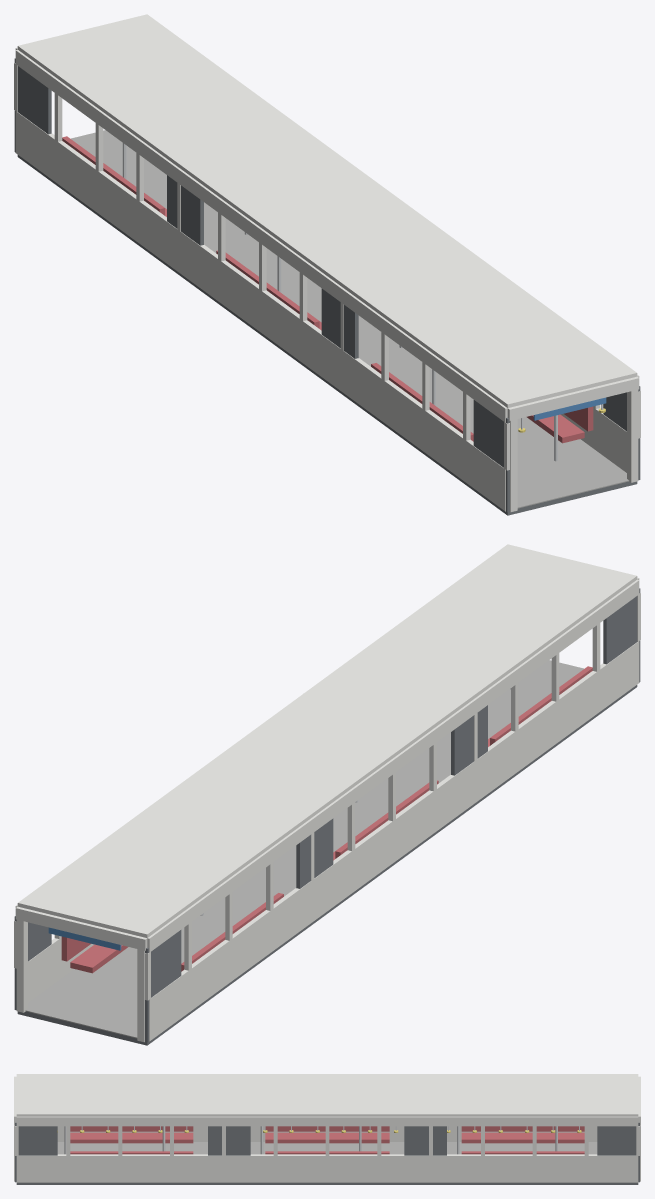
Rendered from MetroCabin.fbx.
3 views of the same model, one above another, from view 1: azimuth 30°, elevation 25°; view 2: azimuth 150°, elevation 25°; view 3: azimuth 270°, elevation 25° (orthographic). The views are drawn at different scales.
Visible parts, largest first — view 1: MetroCabin; view 2: MetroCabin; view 3: MetroCabin.
Boxes of the visible parts, x1,y1,x2,y2 form: MetroCabin: (14, 14, 640, 515); MetroCabin: (14, 544, 640, 1045); MetroCabin: (14, 1074, 640, 1184).
Size of the model in its own units: 300 by 238 by 1916.
